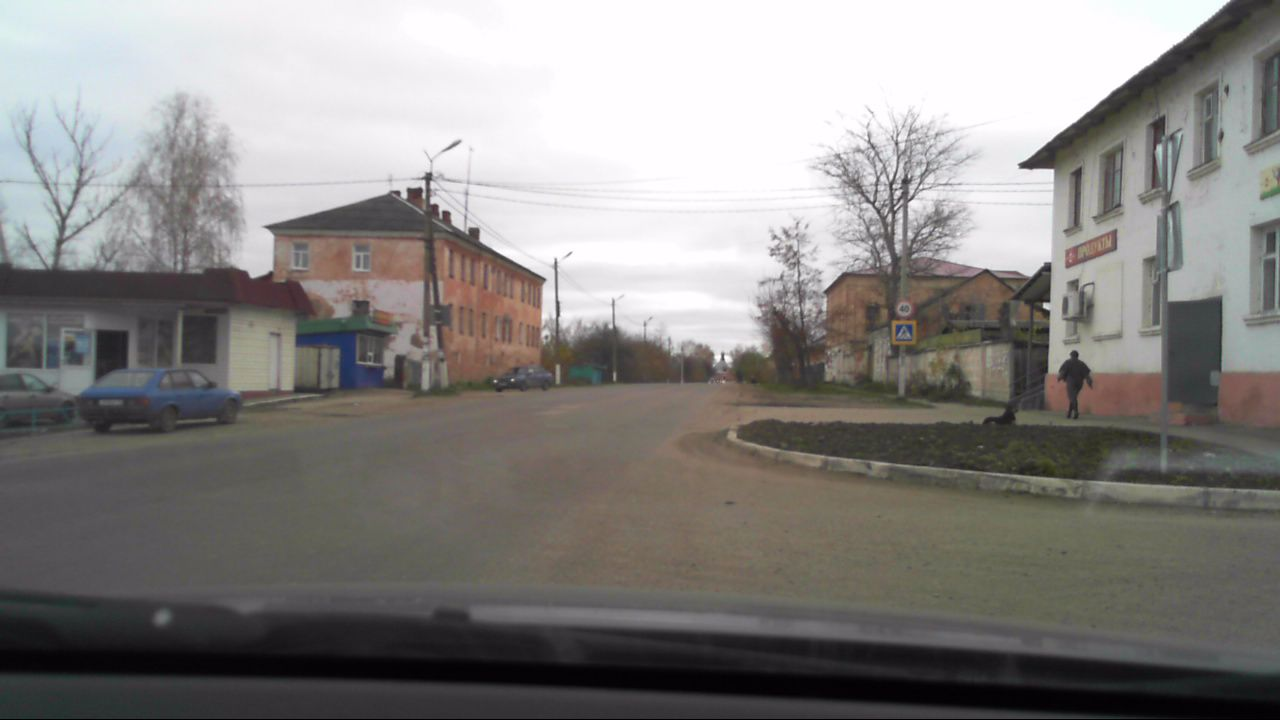speed_warning_40: (892, 300, 912, 320)
